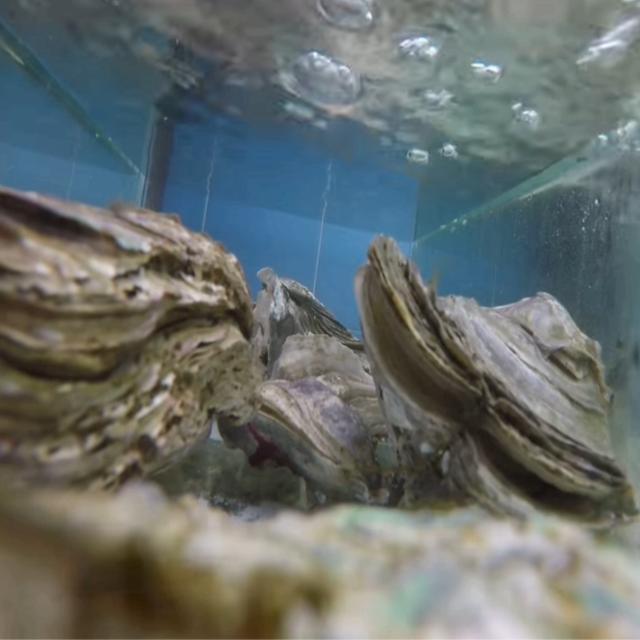Oyster-Closed: (0, 186, 255, 518), (251, 334, 405, 507)
Oyster-Indeterminate: (0, 483, 640, 640)
Oyster-Open: (354, 235, 640, 543)
